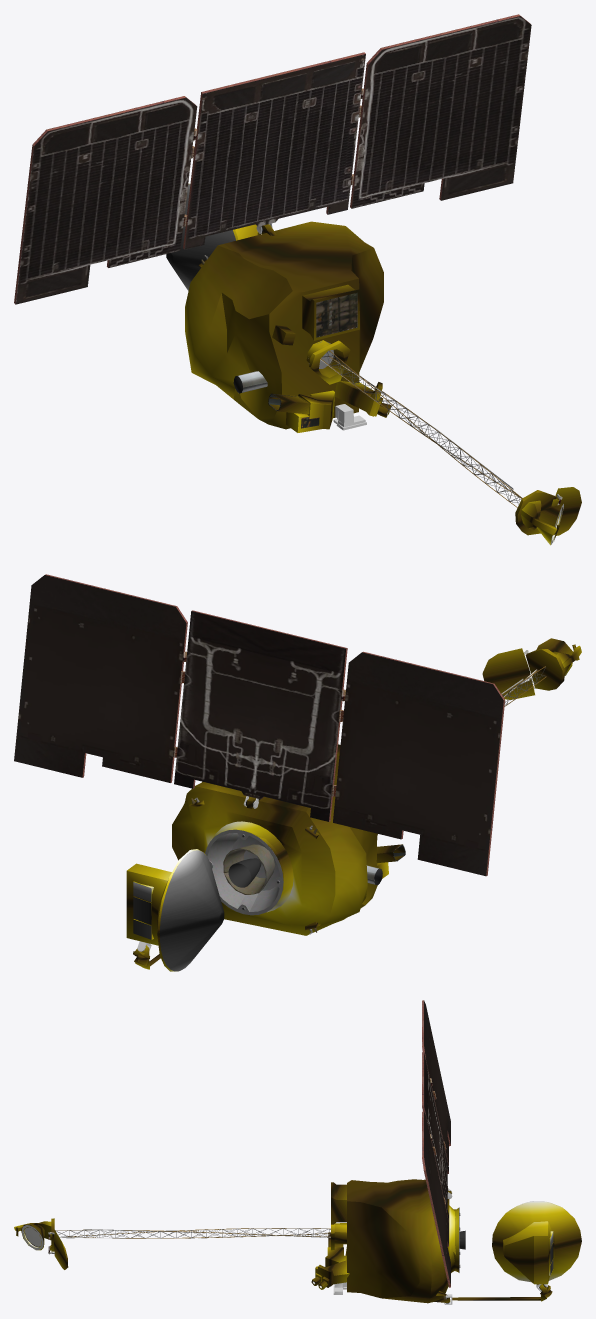
File: odyssey_lod1.glb
3 views of the same model, one above another, from view 1: azimuth 30°, elevation 25°; view 2: azimuth 150°, elevation 25°; view 3: azimuth 270°, elevation 25° (orthographic). The views are drawn at different scales.
Visible parts, largest first — view 1: odyssey_lod1; view 2: odyssey_lod1; view 3: odyssey_lod1.
Part boxes in pixels (box(x1,y1,x2,y2)): odyssey_lod1: box(14, 14, 581, 545); odyssey_lod1: box(14, 574, 581, 971); odyssey_lod1: box(14, 1000, 581, 1304).
Bounding box in the file's own units: 5.65 × 3.35 × 8.19.
10 materials, 8 textured.
